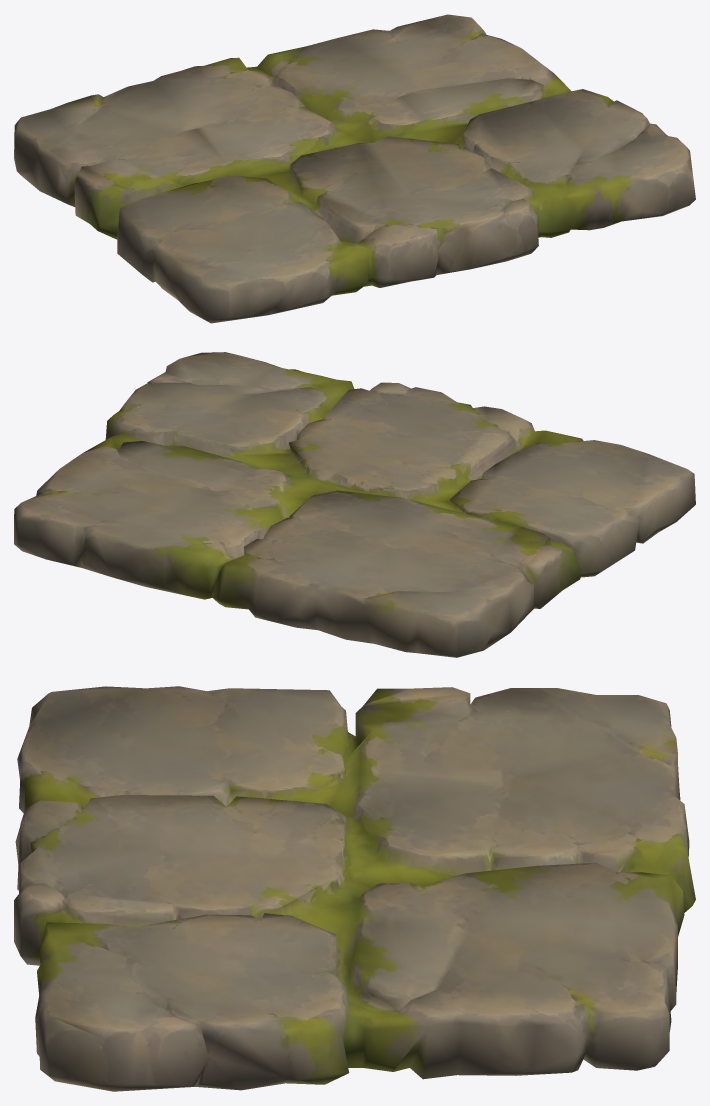
The model's file is SM_FR_StoneTile.fbx.
The picture shows the model from 3 angles, top to bottom: view 1: azimuth 30°, elevation 25°; view 2: azimuth 150°, elevation 25°; view 3: azimuth 270°, elevation 25°; orthographic projection. The views are drawn at different scales.
Visible parts, largest first — view 1: SM_FR_StoneTile; view 2: SM_FR_StoneTile; view 3: SM_FR_StoneTile.
Part boxes in pixels (x1,y1,x2,y2): SM_FR_StoneTile: (14, 14, 695, 323); SM_FR_StoneTile: (14, 352, 695, 657); SM_FR_StoneTile: (14, 686, 695, 1091).
Bounding box in the file's own units: 4 × 0.3523 × 3.26.
1 material, 1 textured.
